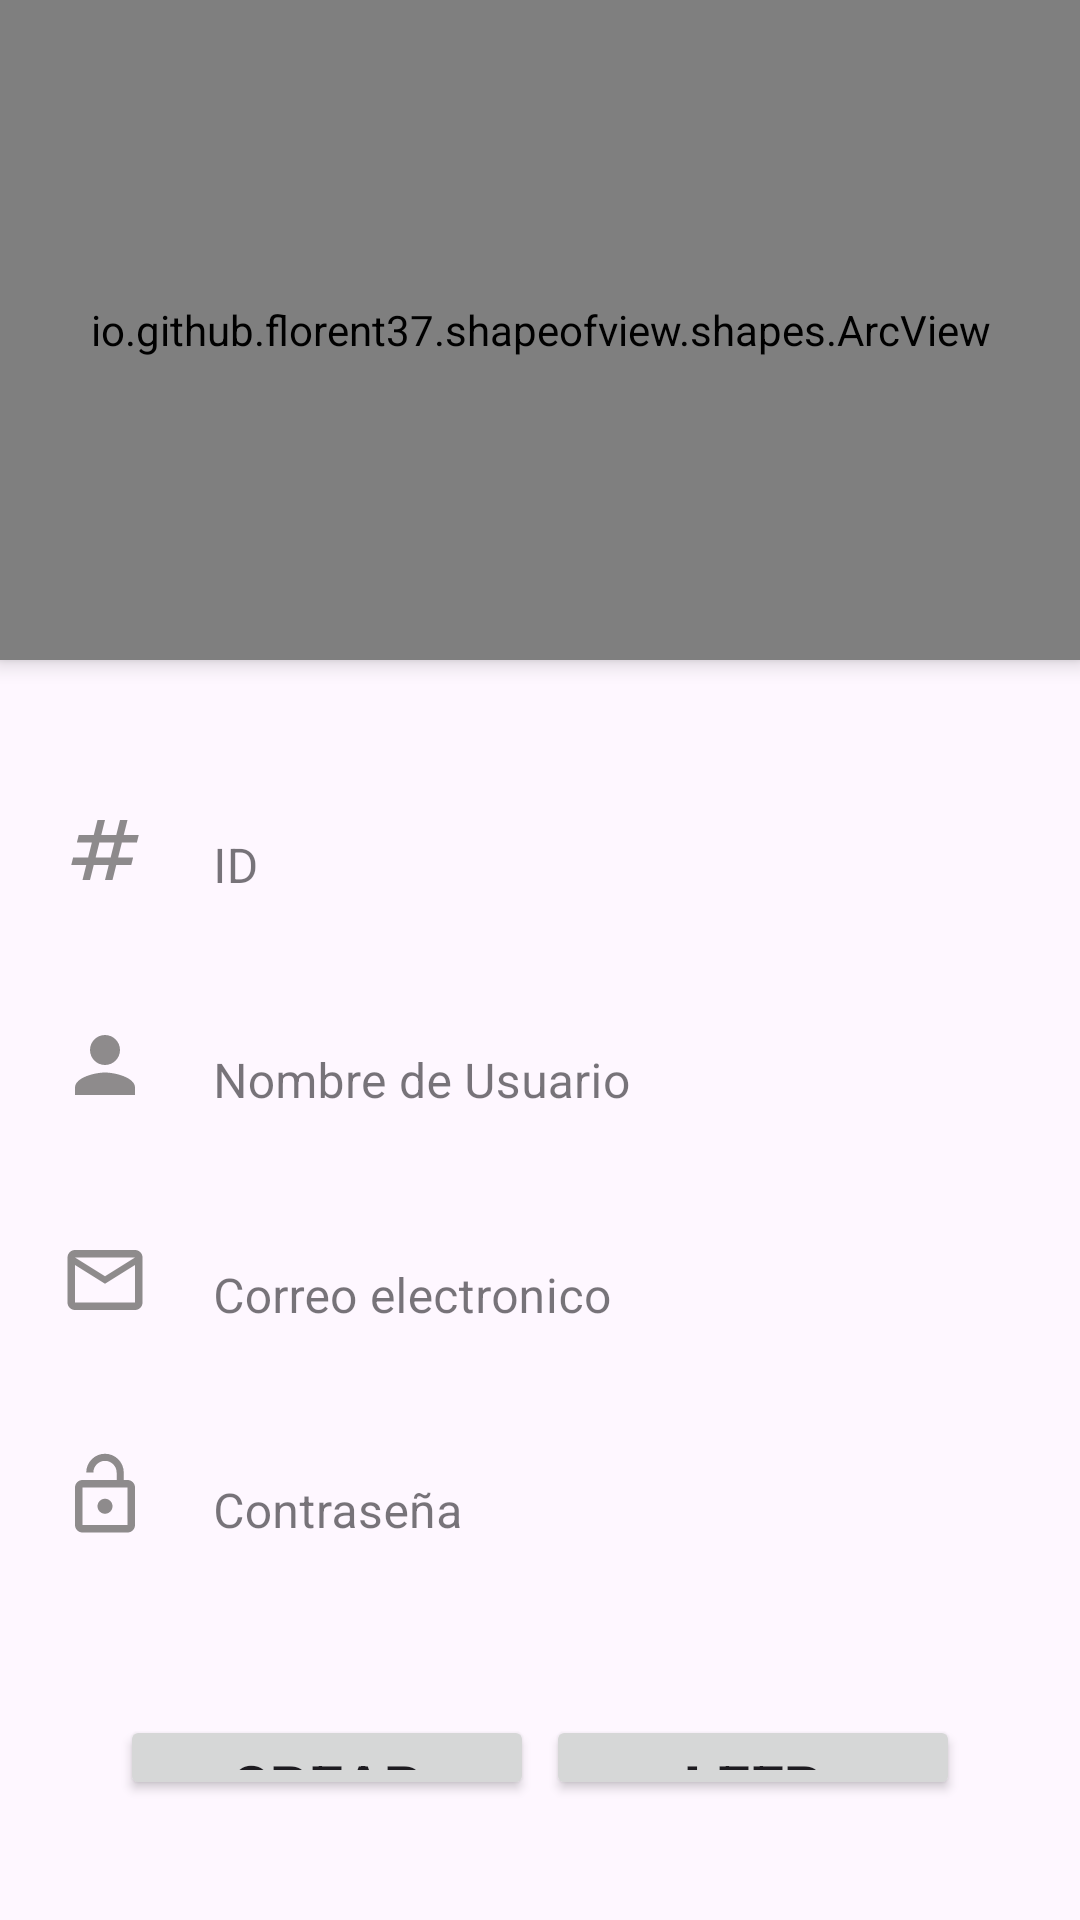

Icon click points for this 1080x1920 phone screenshot, format (x,y):
mail: (105,1280)
pass: (105,1493)
